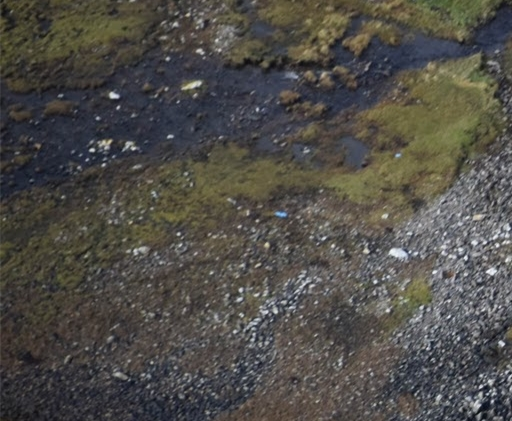white_in_green: (257, 191, 306, 236), (168, 62, 217, 107)
